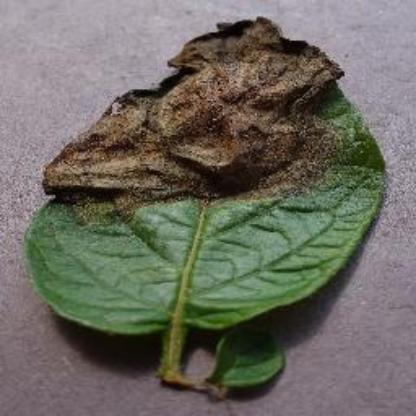Late-Blight: (19, 12, 399, 410)
